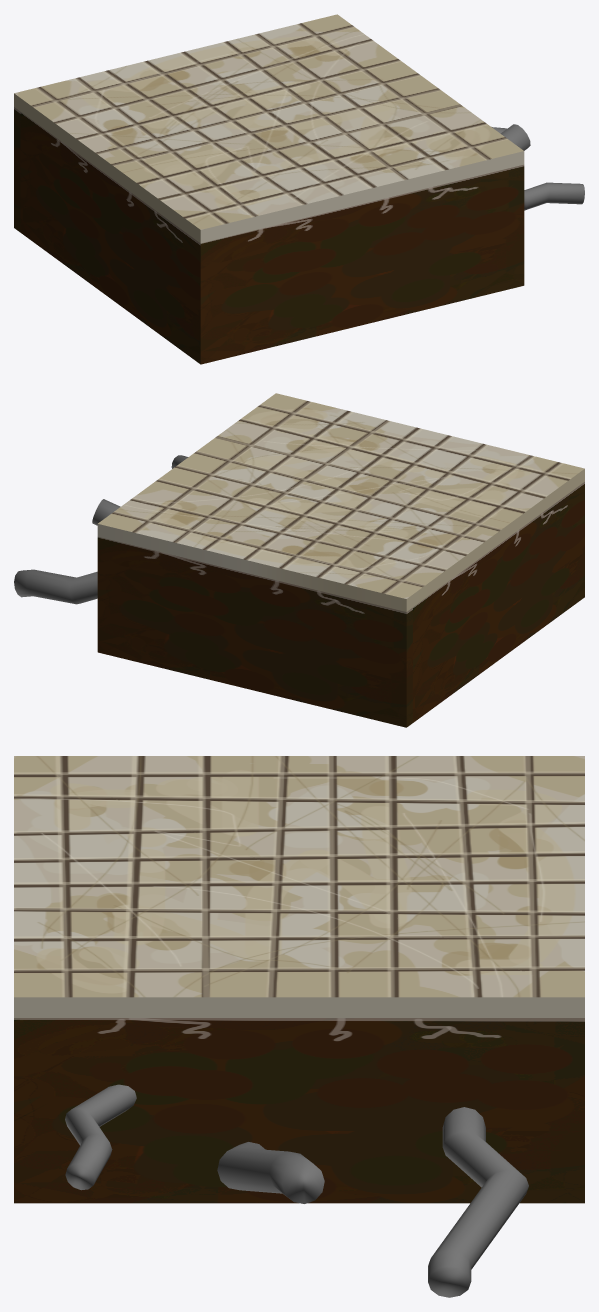
Rendered from Suelo1Lado.fbx.
3 renders of one model, top to bottom at view 1: azimuth 30°, elevation 25°; view 2: azimuth 150°, elevation 25°; view 3: azimuth 270°, elevation 25°, orthographic. The views are drawn at different scales.
Parts seen in each view (by area): view 1: Cube.021; view 2: Cube.021; view 3: Cube.021.
Boxes of the visible parts, <box> form: Cube.021: <box>14,14,584,364</box>; Cube.021: <box>14,393,584,727</box>; Cube.021: <box>14,756,584,1297</box>.
Bounding box in the file's own units: 1474 × 431 × 1057.
3 materials, 2 textured.
